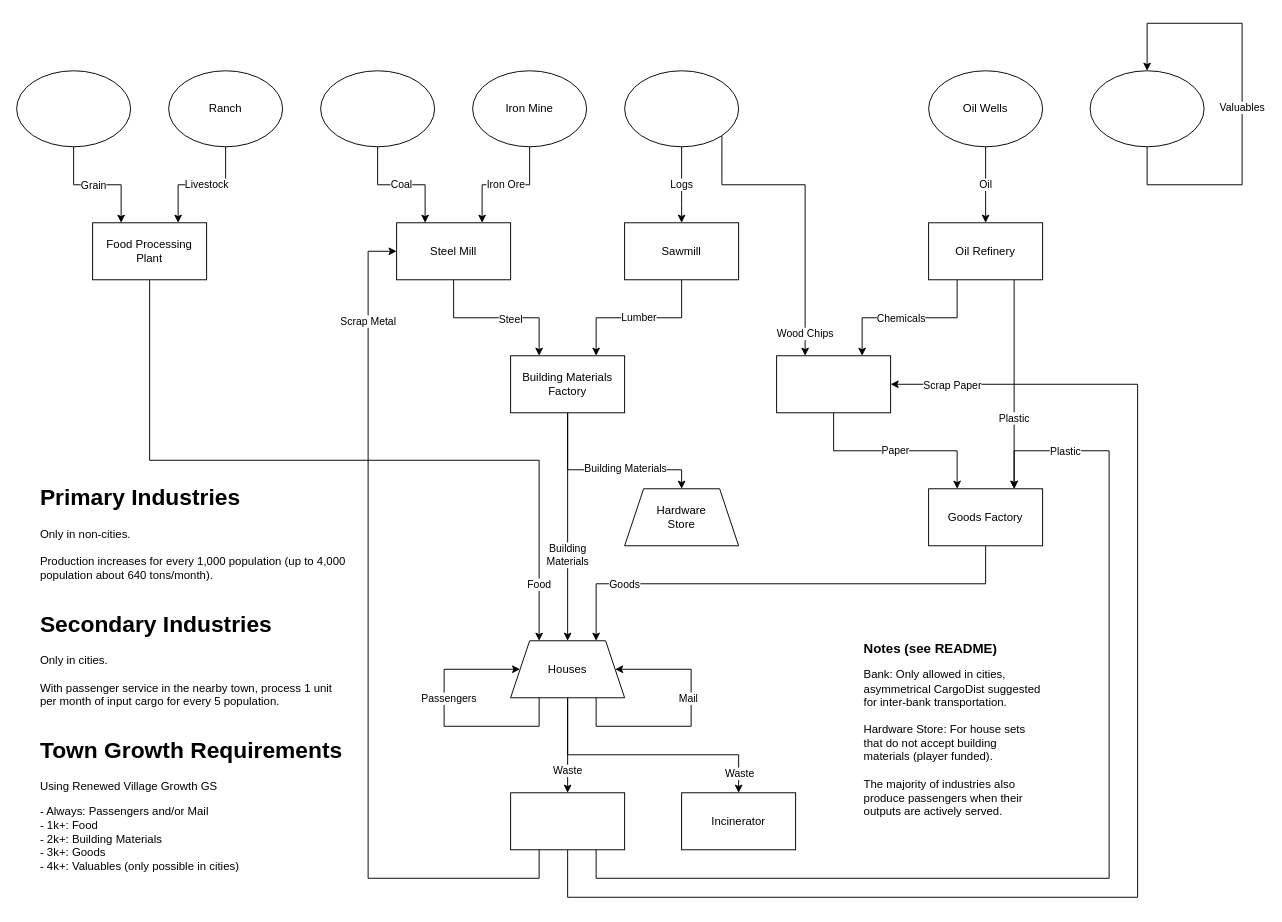
This 1282x922 diagram has some shape labels left out. Here are the shapes that lost their labels. From the top down, the centre of each, then its label:
At (73,108): "Farm".
At (377,108): "Coal Mine".
At (681,108): "Forest".
At (1146,108): "Bank".
At (833,384): "Paper Mill".
At (567,821): "Recycling Center".
